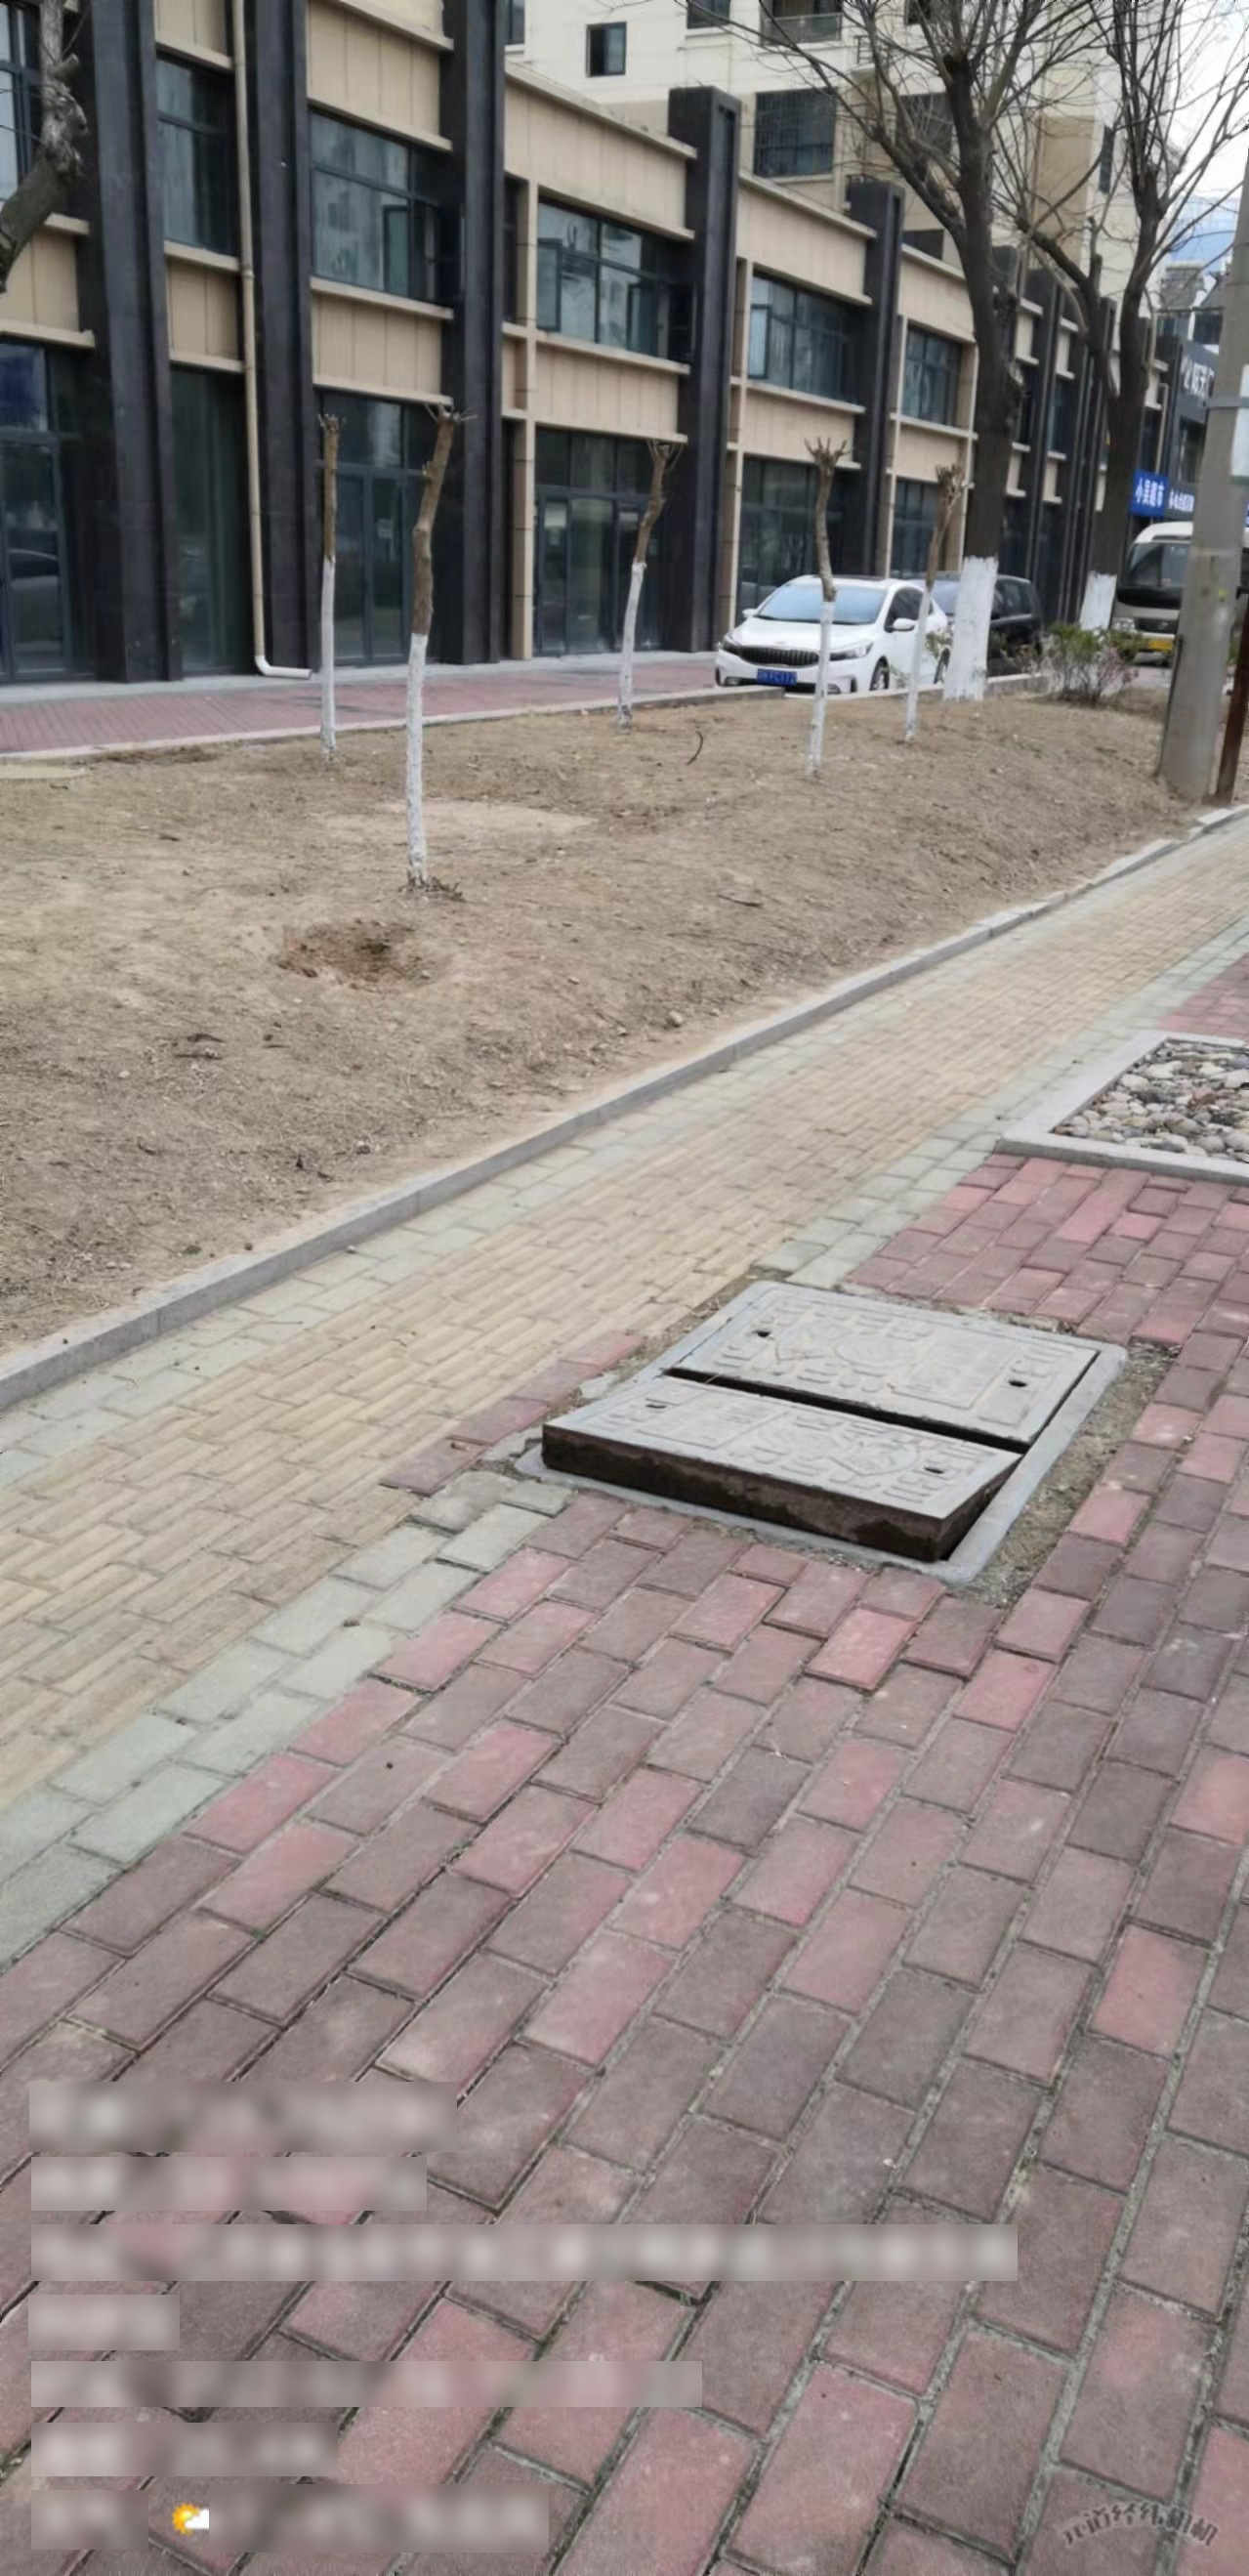well: (515, 1278, 1137, 1582)
